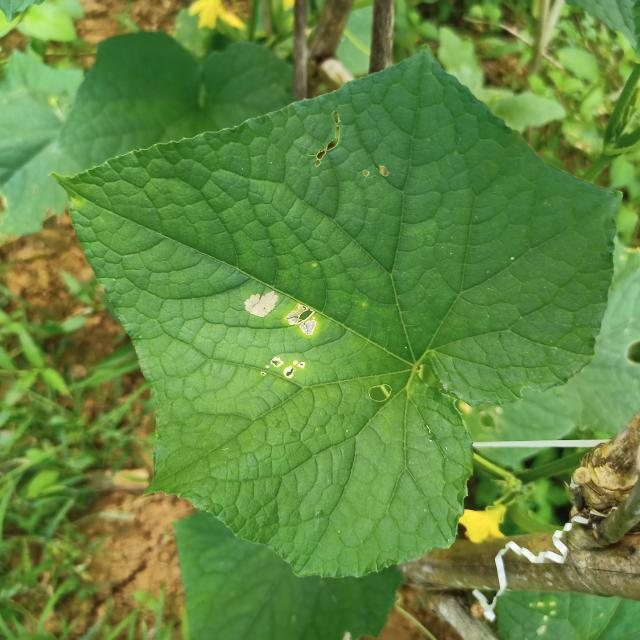disease_cucumber: (241, 285, 315, 387)
